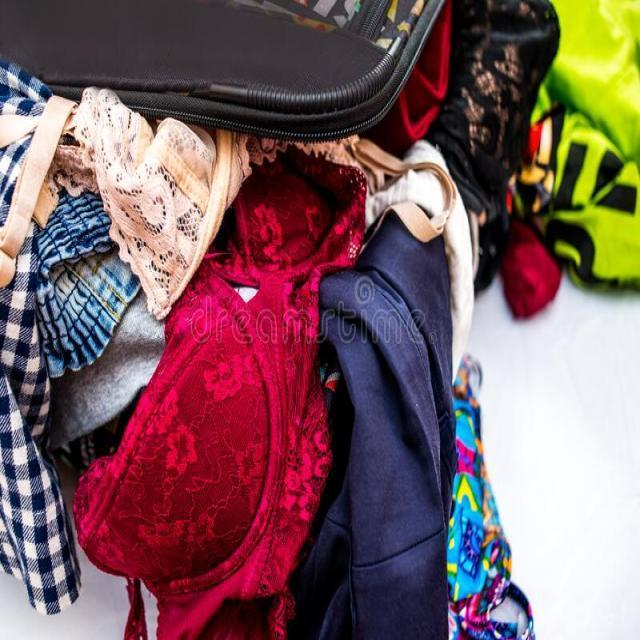clothes: (85, 275, 314, 640), (292, 225, 464, 640)
